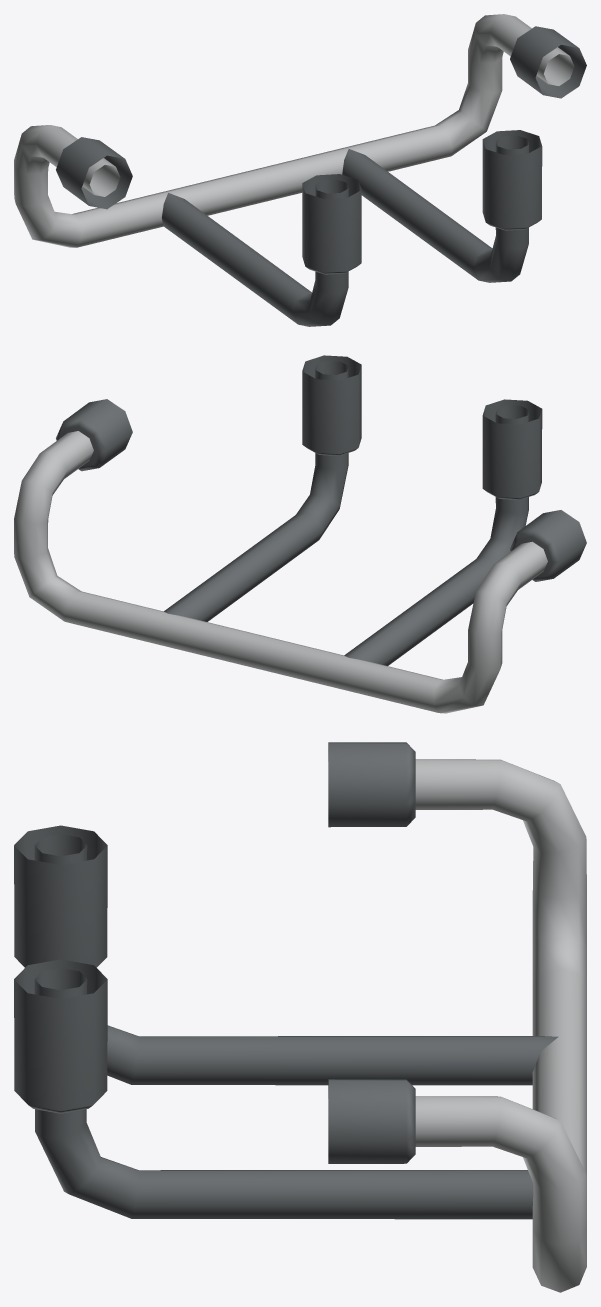
Rendered from Car_11_RearBumper_Simple.fbx.
3 renders of one model, top to bottom at view 1: azimuth 30°, elevation 25°; view 2: azimuth 150°, elevation 25°; view 3: azimuth 270°, elevation 25°, orthographic. The views are drawn at different scales.
Parts seen in each view (by area): view 1: Car_11_RearBumper_Simple; view 2: Car_11_RearBumper_Simple; view 3: Car_11_RearBumper_Simple.
Boxes of the visible parts, x1,y1,x2,y2 form: Car_11_RearBumper_Simple: (14, 14, 586, 326); Car_11_RearBumper_Simple: (14, 355, 586, 713); Car_11_RearBumper_Simple: (14, 742, 586, 1292).
Size of the model in its own units: 111 by 71.89 by 33.16.
